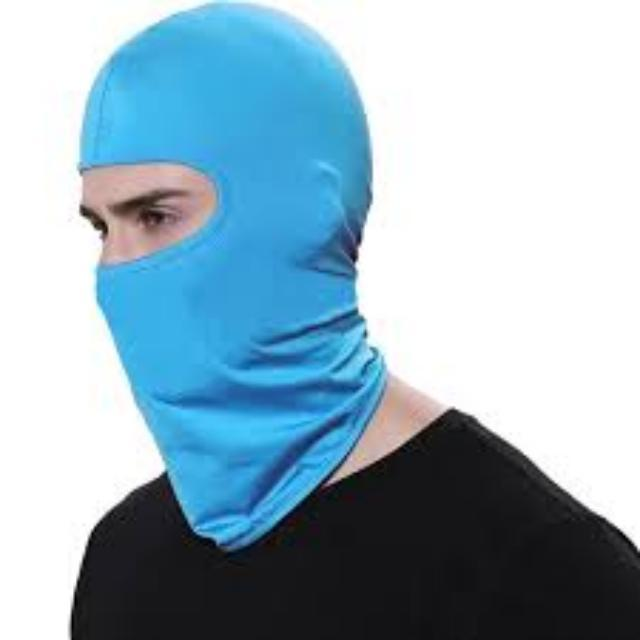criminal: (70, 0, 640, 640)
